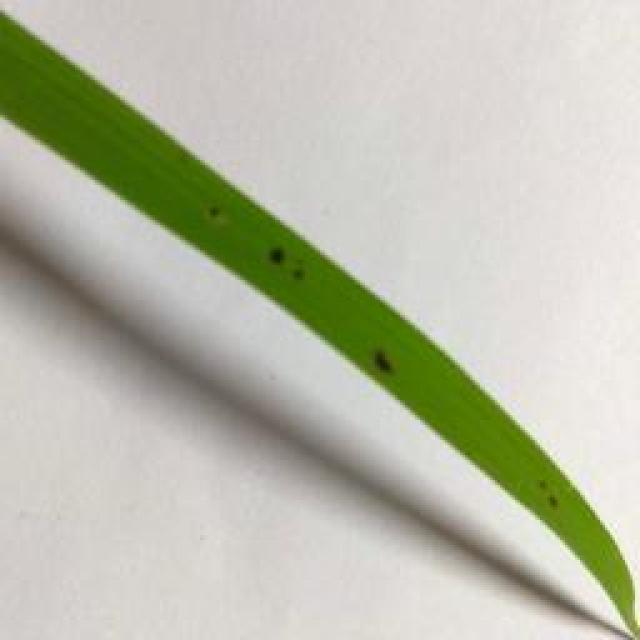Brown_Spot: (350, 326, 416, 401), (261, 237, 294, 283), (275, 253, 311, 290), (192, 203, 234, 234), (542, 484, 568, 526), (530, 461, 554, 504)
